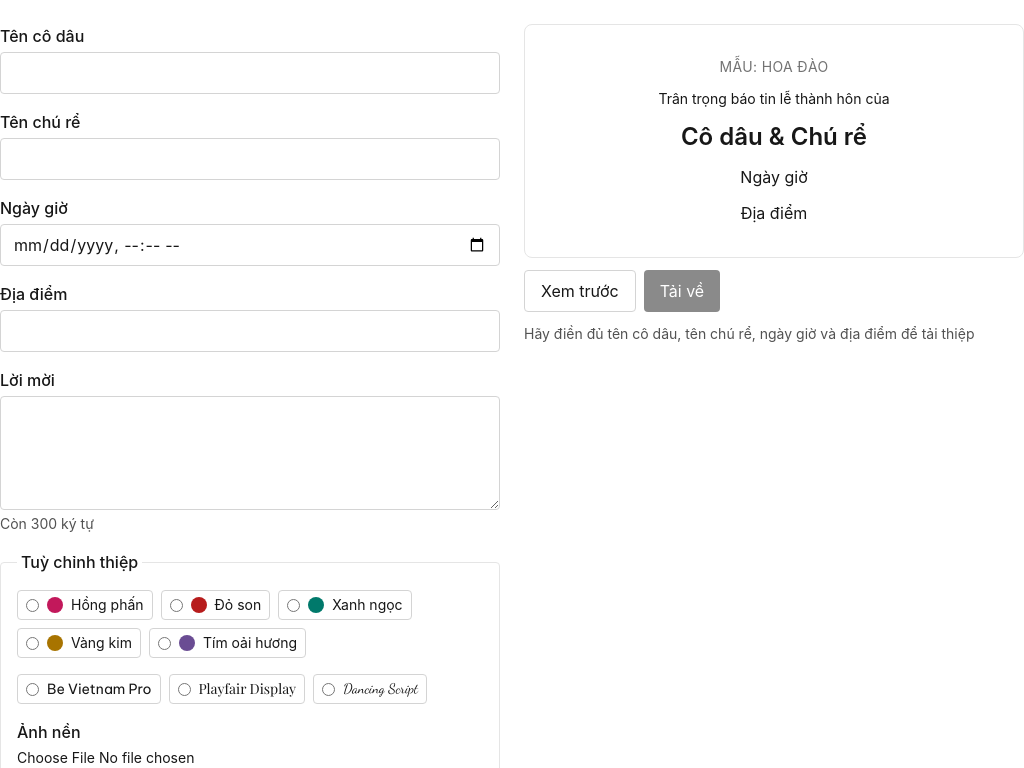
Scenario: the close button also leaves full screen
The image size is (1024, 768).
Click the button "Xem trước".
click(580, 291)  # box 524,270 -> 636,312
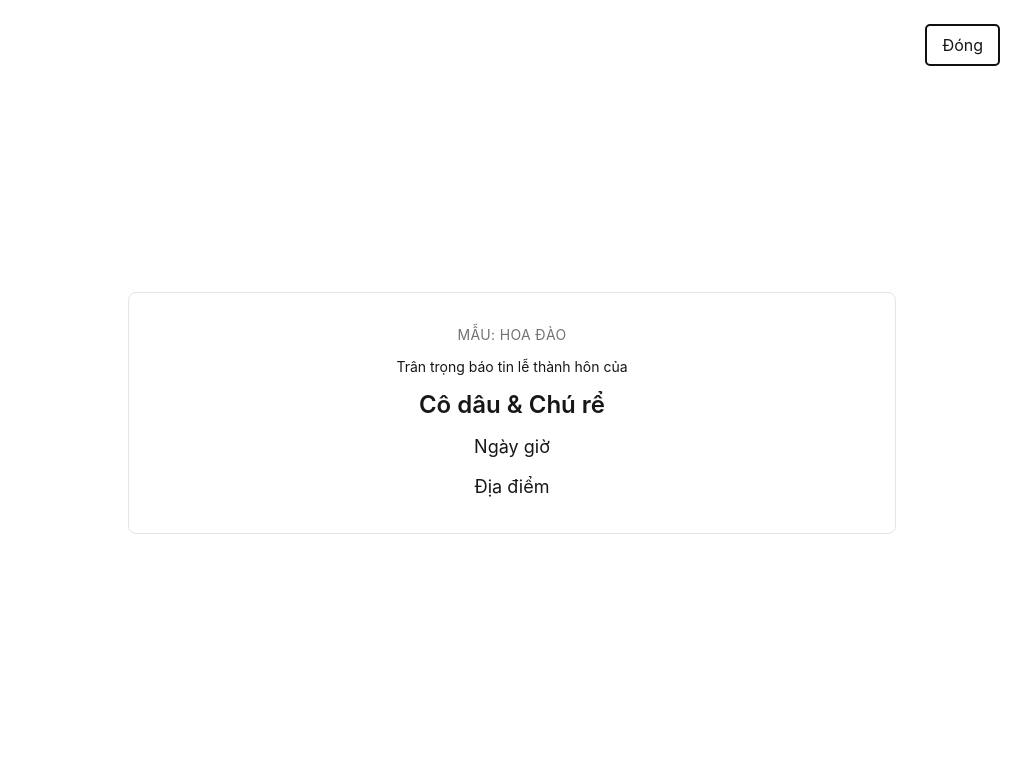
Click the button "Đóng".
click(963, 45)  # box 925,24 -> 1000,66
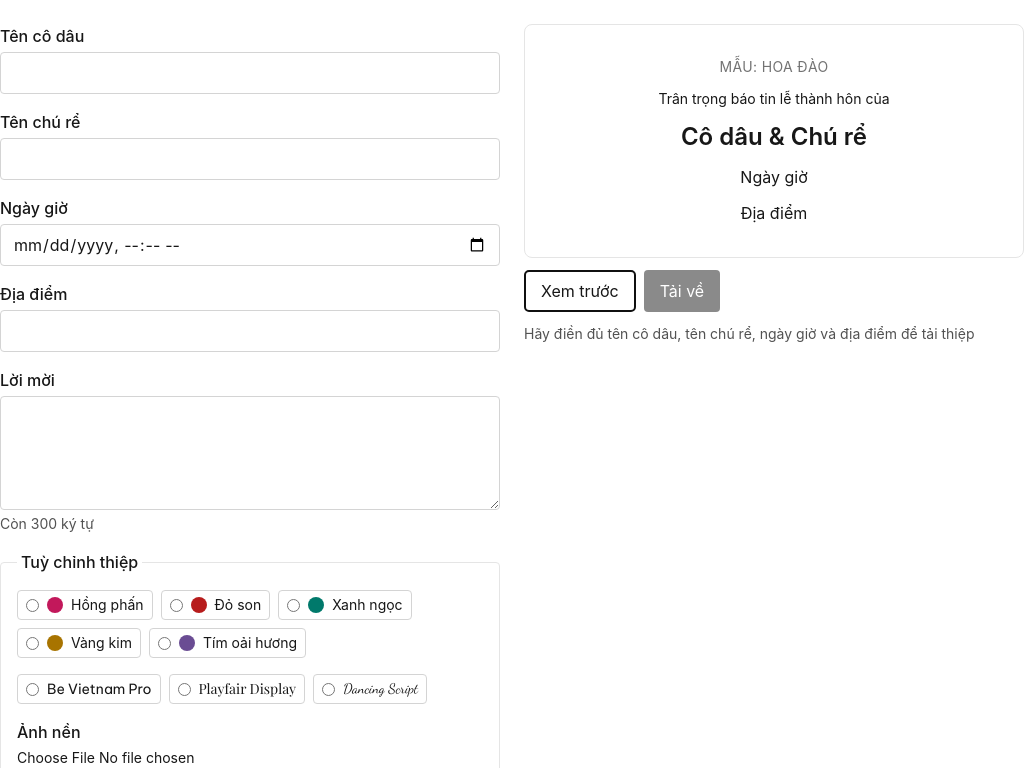
Check: the dialog is gone
